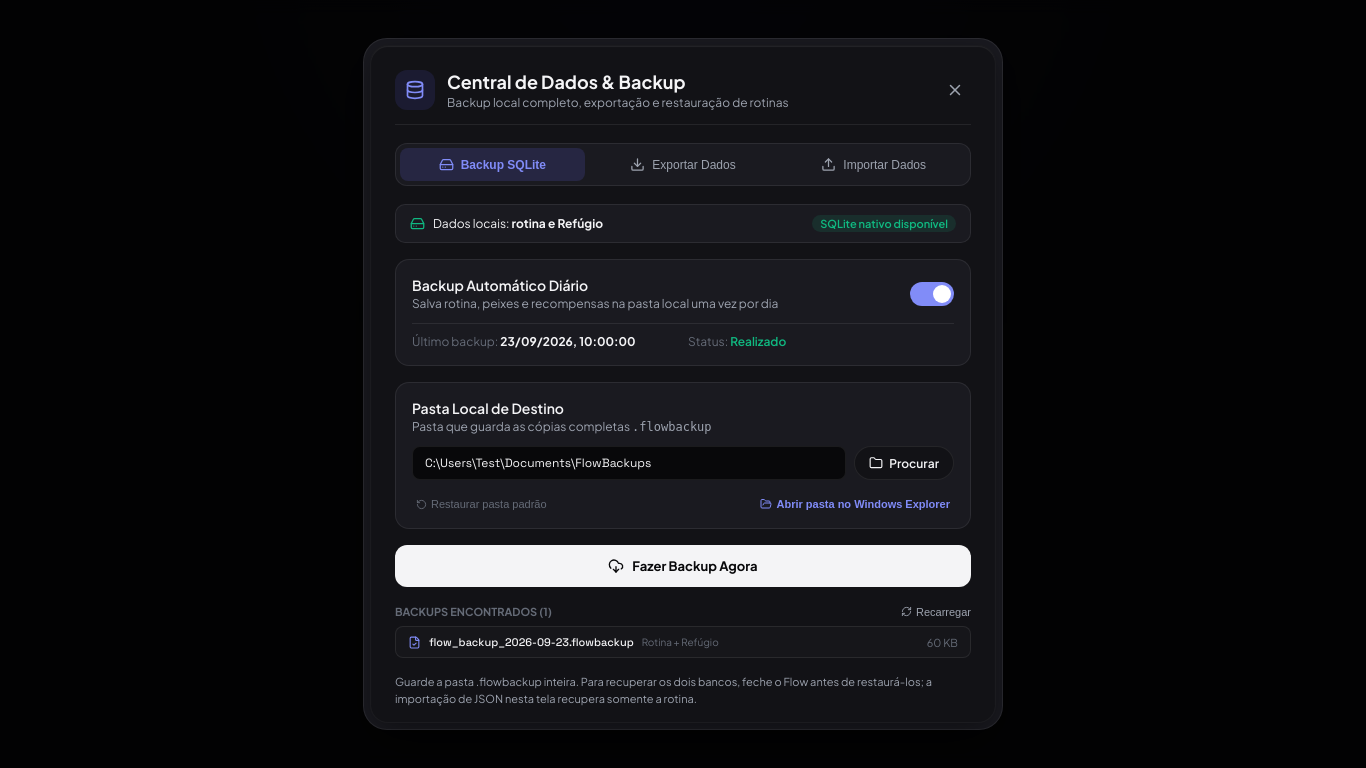
Test: BackupModal Component › deve disparar criação de backup manual ao clicar no botão
Click the button "Fazer Backup Agora" at (683, 566), box [395, 545, 971, 587]
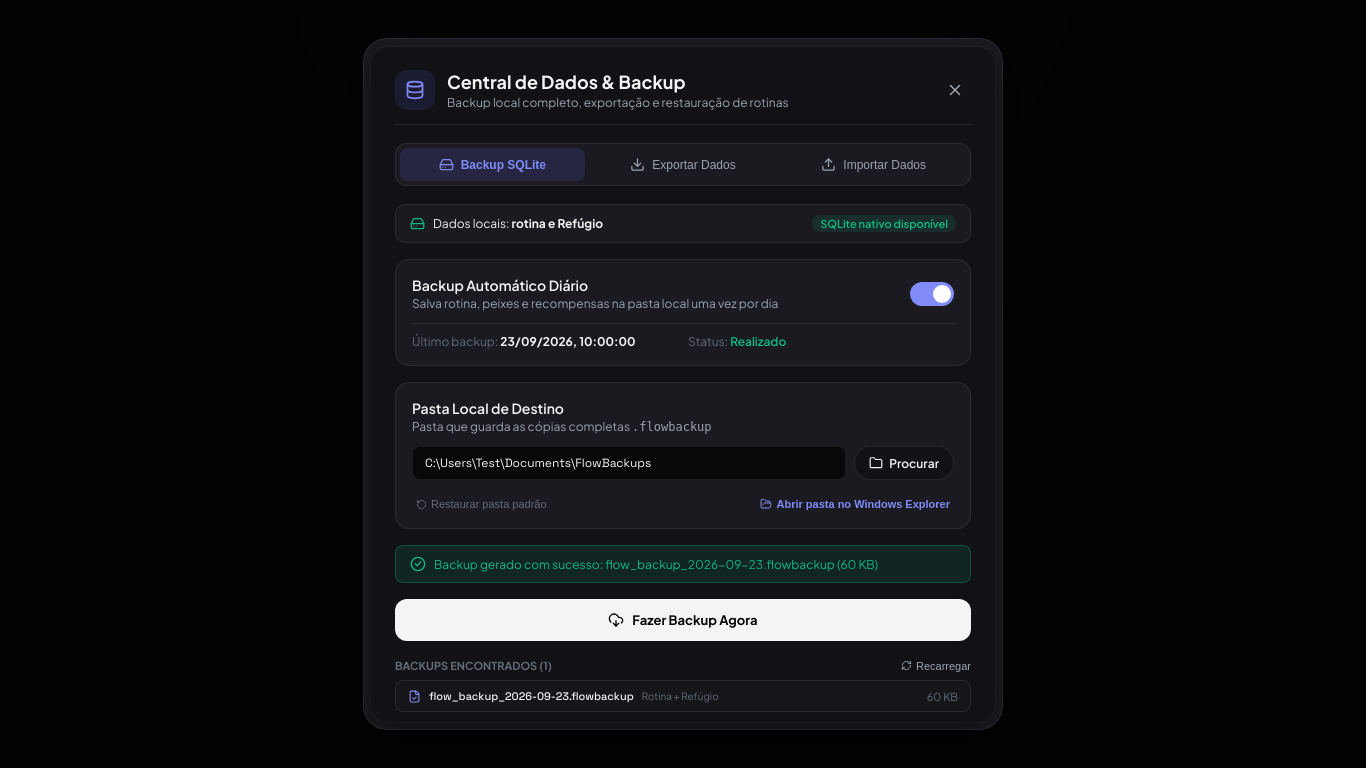
Expected: the text "Backup gerado com sucesso: flow_backup_2026-09-23.flowbackup" is shown, [434, 557, 878, 572]
